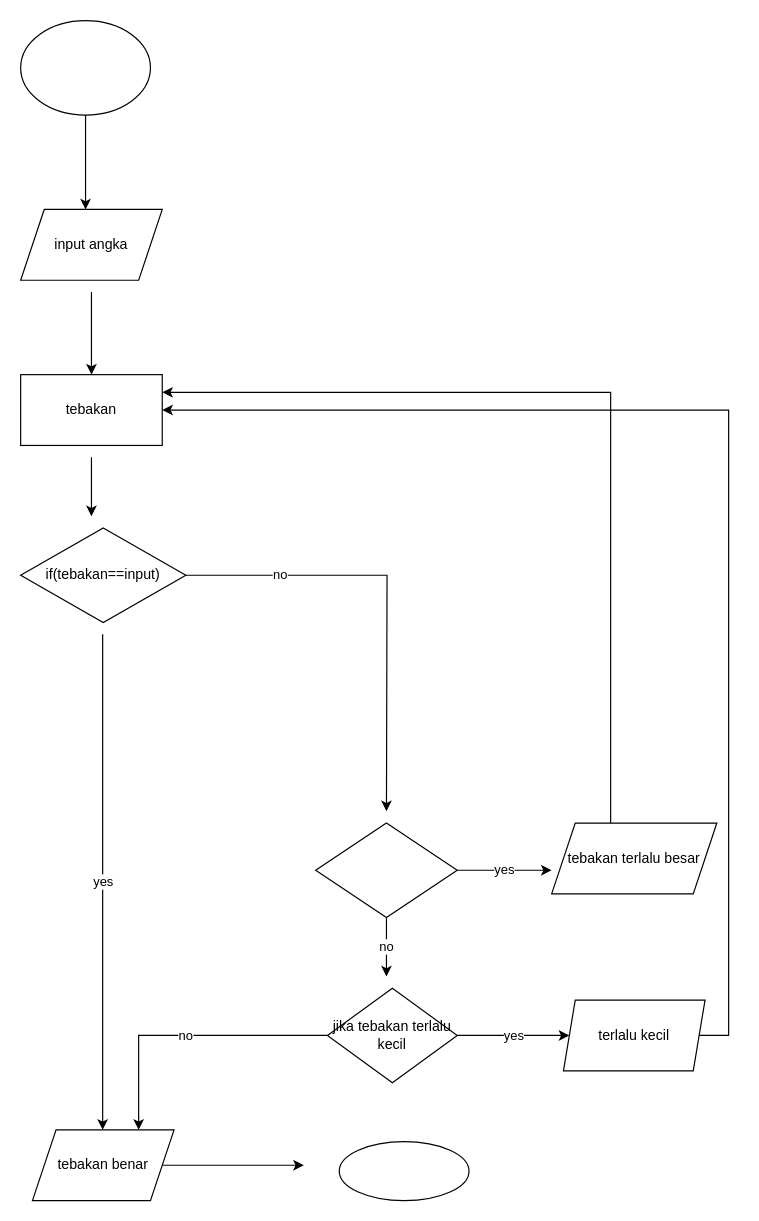
The diagram is 759 pixels wide and 1221 high, and some of its shapes have lost their labels. Here are the shapes that lost their labels. From the top down, the box of each, then its label:
(19, 19, 150, 115): STAR
(314, 822, 457, 917): jika tebakan > input
(338, 1140, 469, 1201): stop
